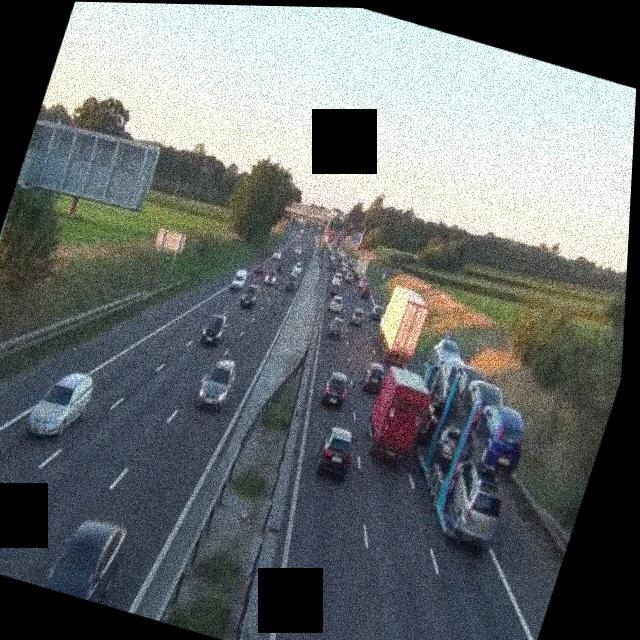car: (31, 506, 132, 605), (459, 398, 534, 484), (23, 363, 97, 446), (453, 375, 507, 433), (194, 352, 242, 413), (310, 423, 359, 481), (422, 332, 466, 382), (319, 367, 353, 408), (200, 307, 231, 348), (360, 359, 388, 394), (239, 280, 262, 310), (230, 266, 250, 292), (325, 316, 346, 340), (348, 306, 367, 327), (368, 301, 385, 321), (282, 271, 299, 291), (327, 294, 344, 314), (264, 267, 279, 288), (328, 277, 343, 295), (359, 282, 372, 298), (291, 260, 303, 277)
truck: (357, 362, 437, 465), (369, 285, 433, 367), (349, 253, 371, 283)
